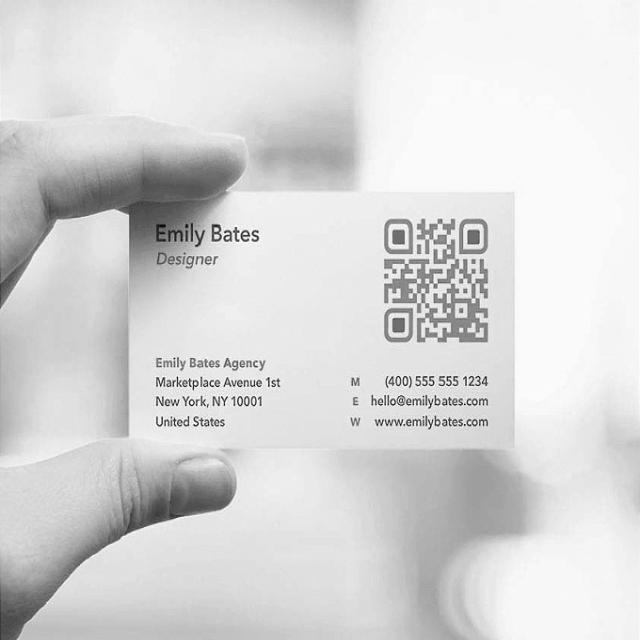QR-codes: (382, 214, 489, 346)
